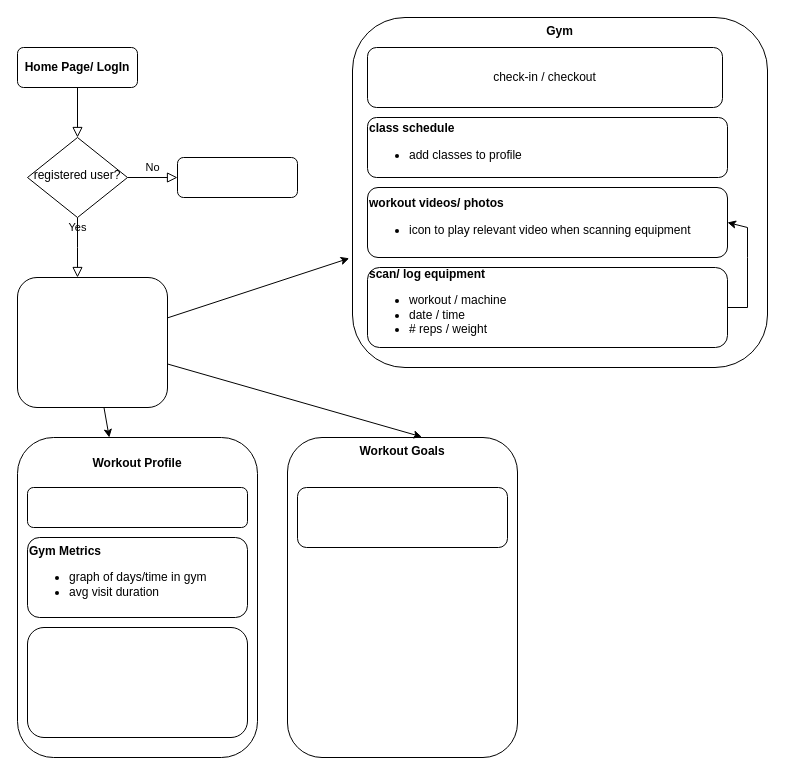
This 785x775 diagram has some shape labels left out. The centre of each missing label's shape, as x and y in pixels:
"Upcoming Classes Attending" belongs at pixel 137 507.
"User Profile Page name email photo workout goals workout profile" belongs at pixel 92 342.
"User Registration Page" belongs at pixel 237 177.
"weight loss steps taken days in gym/time in gym" belongs at pixel 402 517.
"Workout Metrics time in gym equipment used weights reps" belongs at pixel 137 682.
